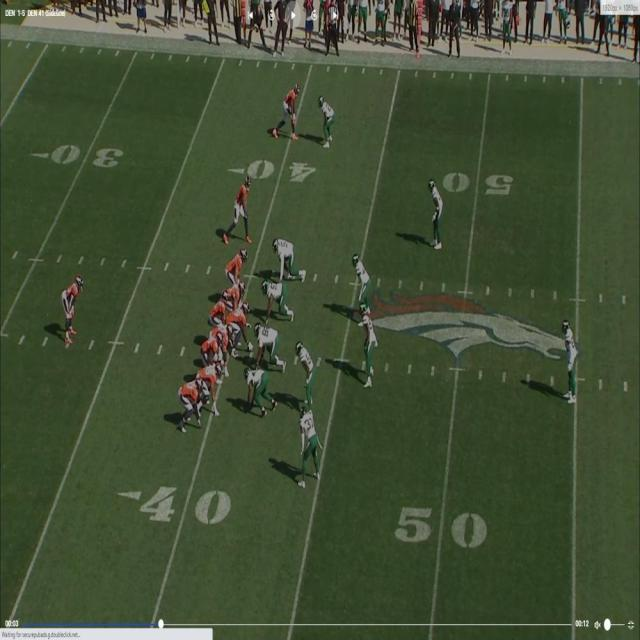center: (233, 306, 251, 354)
db: (299, 406, 316, 482), (431, 183, 446, 250), (318, 96, 334, 148)
lb: (560, 319, 578, 402), (296, 339, 318, 404), (362, 307, 378, 383), (352, 256, 369, 305)
qb: (213, 290, 230, 326)
skill: (233, 174, 253, 244), (179, 380, 205, 430), (203, 359, 224, 418), (61, 276, 82, 334), (282, 86, 300, 138)
